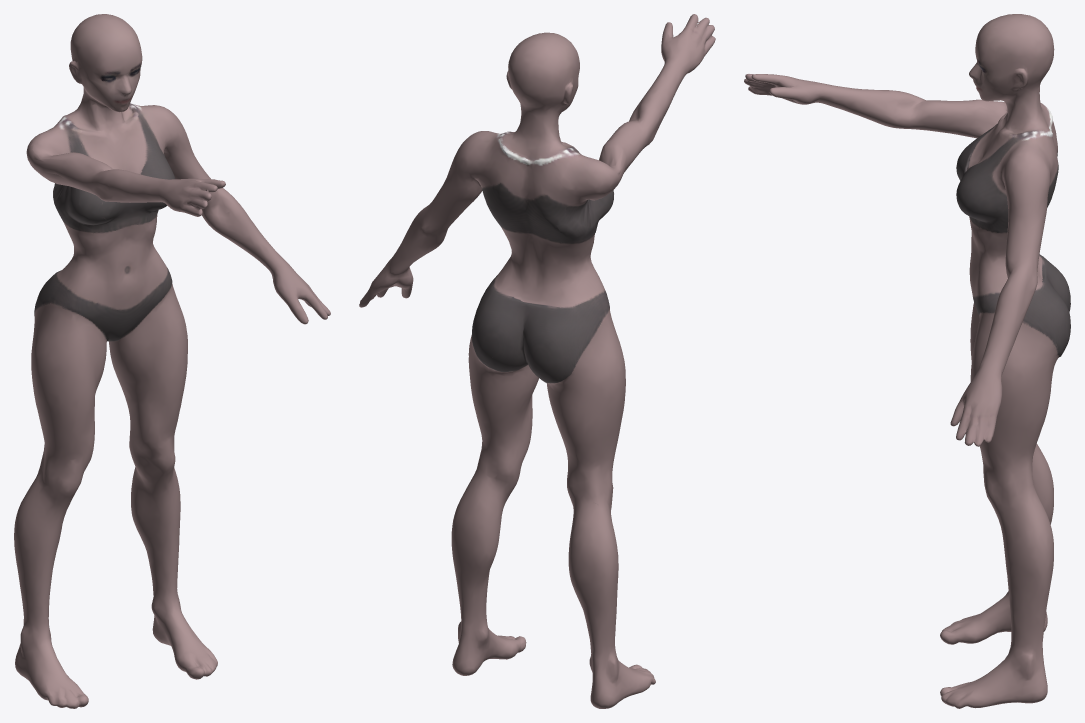
Rendered from regional-UpperArmL-90.glb.
3 renders of one model, left to right at view 1: azimuth 30°, elevation 25°; view 2: azimuth 150°, elevation 25°; view 3: azimuth 270°, elevation 25°, orthographic.
Visible parts, largest first — view 1: regional-UpperArmL-90; view 2: regional-UpperArmL-90; view 3: regional-UpperArmL-90.
Part boxes in pixels (x1=…): regional-UpperArmL-90: x1=14, y1=14, x2=330, y2=708; regional-UpperArmL-90: x1=359, y1=14, x2=715, y2=708; regional-UpperArmL-90: x1=744, y1=14, x2=1070, y2=708.
Bounding box in the file's own units: 0.4619 × 1 × 0.454.
1 material, 1 textured.
